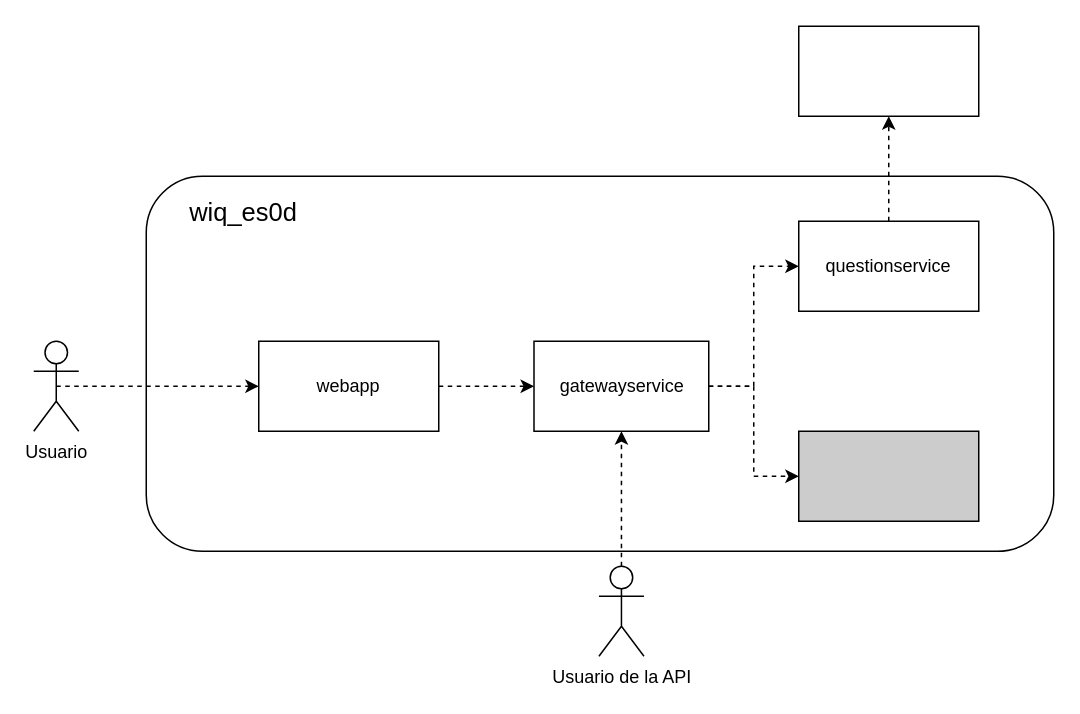
Some shapes in this 1080 by 714 pixel diagram are drawn without their labels. The shapes that lost their labels are listed below. From the top down, each one's box as (x1, y1, x2, y2) in pixels, then its label:
(797, 25, 979, 116): Wikidata
(797, 430, 979, 521): users
